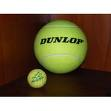tennis ball: (33, 19, 88, 74), (27, 68, 48, 88)
